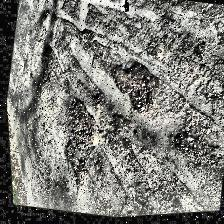pothole: (50, 94, 108, 200), (100, 55, 164, 120), (34, 42, 62, 86)
